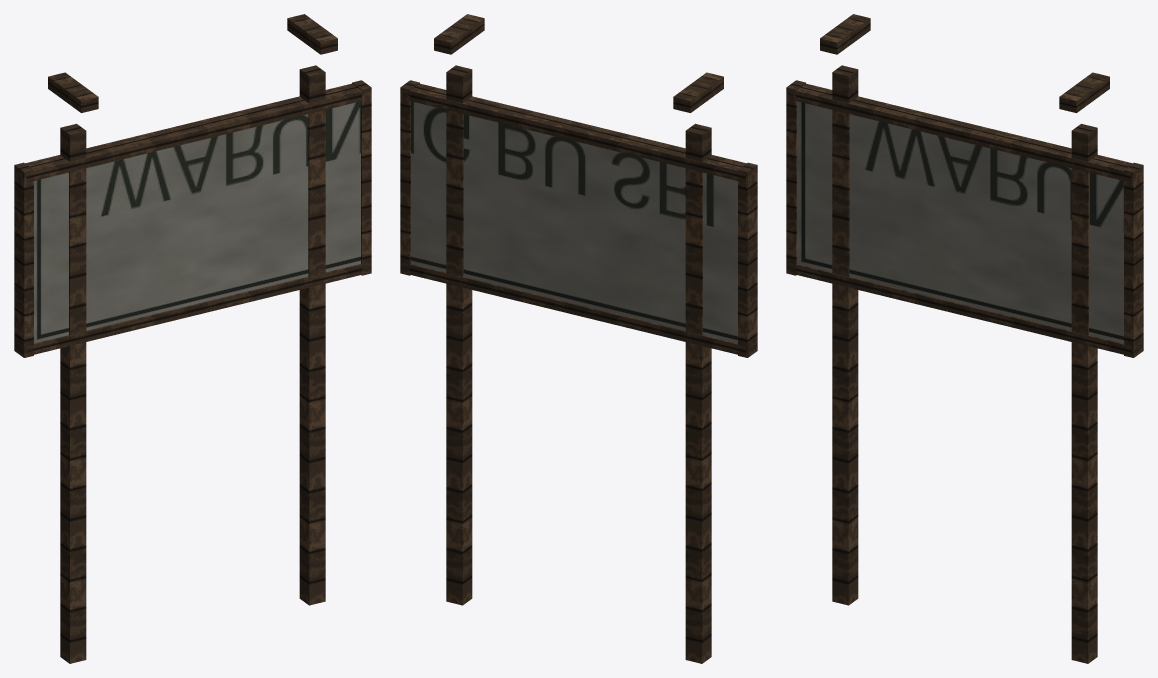
File: prop.signboard.glb
3 views of the same model, side by side, from view 1: azimuth 30°, elevation 25°; view 2: azimuth 150°, elevation 25°; view 3: azimuth 330°, elevation 25° (orthographic).
Parts seen in each view (by area): view 1: prop.signboard; view 2: prop.signboard; view 3: prop.signboard.
Boxes of the visible parts, x1=… form: prop.signboard: x1=14, y1=14, x2=371, y2=663; prop.signboard: x1=400, y1=14, x2=757, y2=663; prop.signboard: x1=786, y1=14, x2=1143, y2=663.
Bounding box in the file's own units: 1.8 × 2.83 × 0.3.
2 materials, 2 textured.
